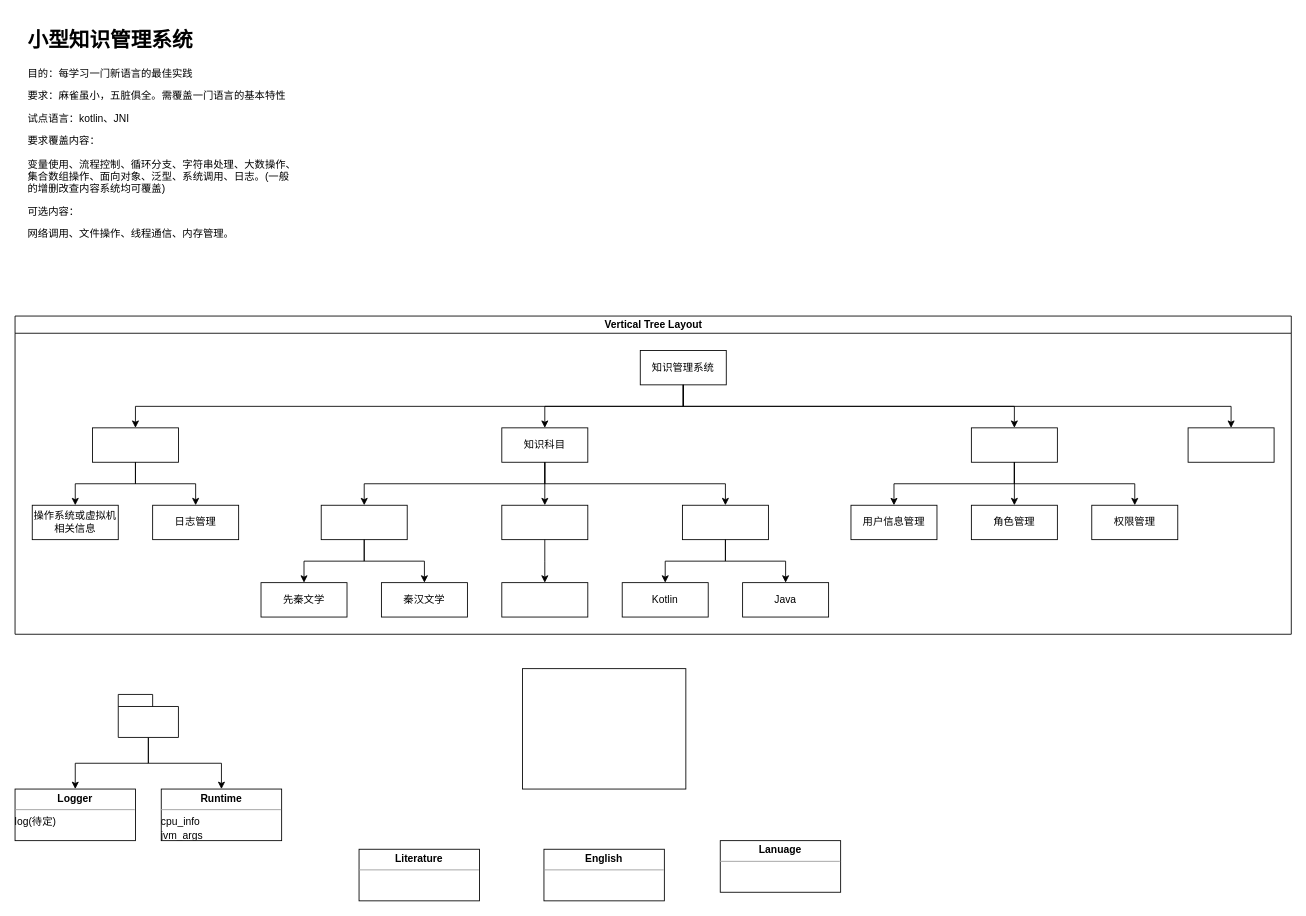
Image size: 1306x916. Some labels were removed from this diagram. Here are the shapes that lost their labels. From the top down, the box of each, then its label:
(92, 427, 178, 462): 系统设置
(971, 427, 1057, 462): 用户管理
(1187, 427, 1274, 462): 统计管理
(320, 504, 407, 540): 文学
(501, 504, 588, 540): 英语
(682, 504, 768, 540): 软件工程
(501, 582, 588, 617): 语法
(117, 694, 178, 737): Setting
(522, 668, 686, 789): <<Interface>> IKnowledge + field1: Type + field2: Type + serilizable()
